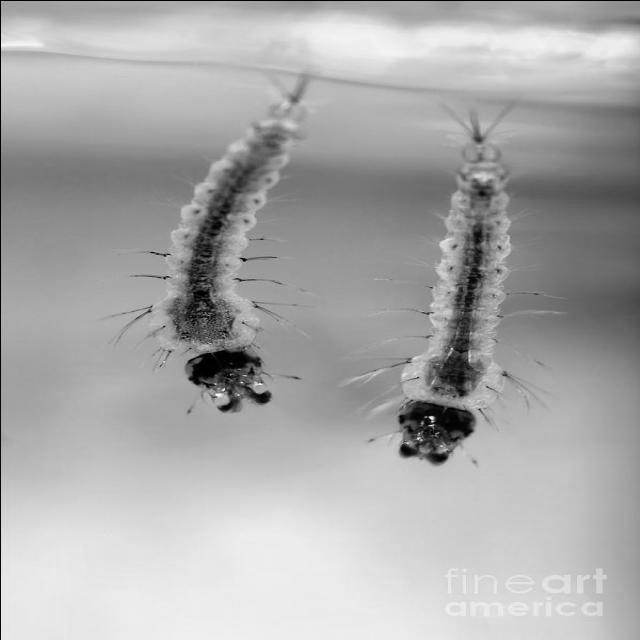larvas: (147, 87, 308, 410), (400, 119, 510, 464)
